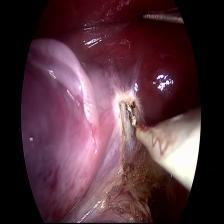Hook: (124, 93, 202, 196)
